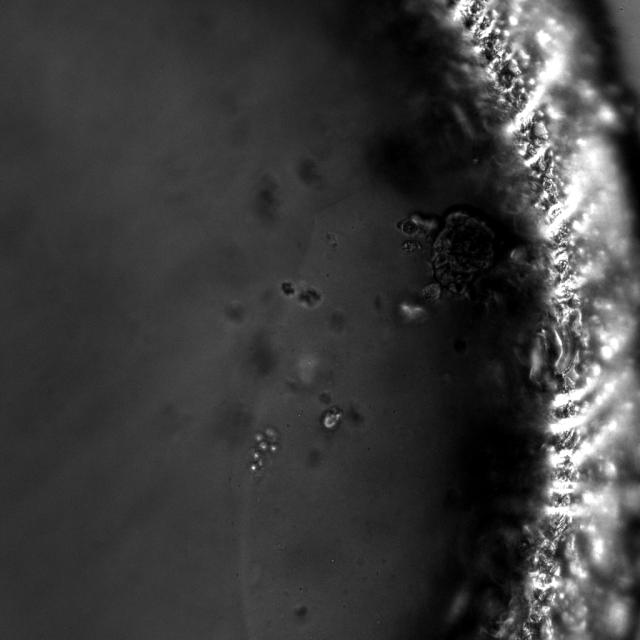organoid: (396, 205, 544, 311), (249, 426, 279, 474), (281, 281, 321, 307), (321, 405, 343, 430)
